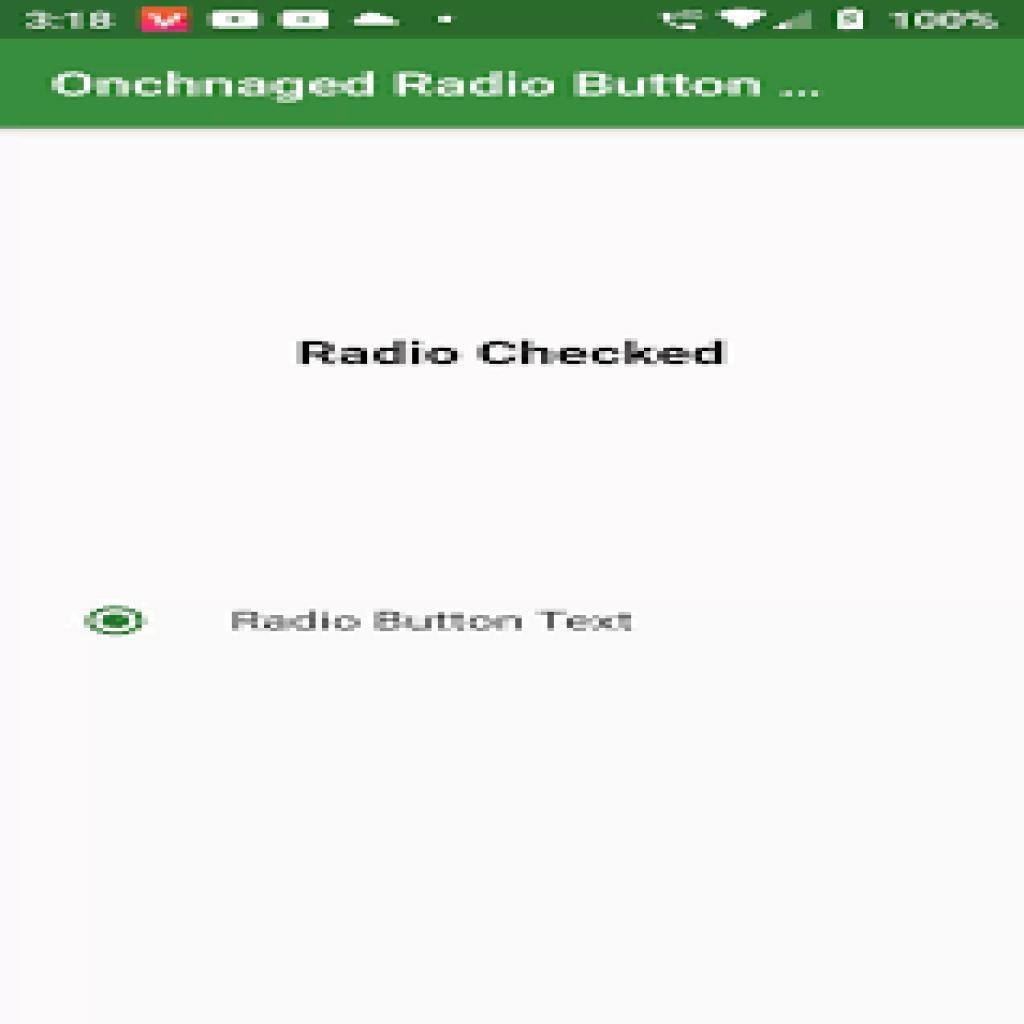label: (222, 602, 642, 645)
radio: (83, 603, 153, 638)
